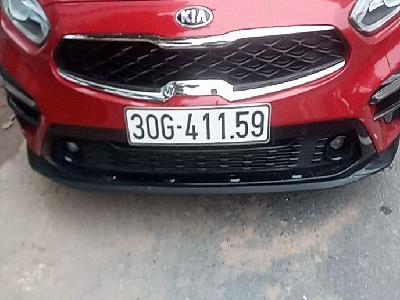number: (125, 108, 270, 143)
